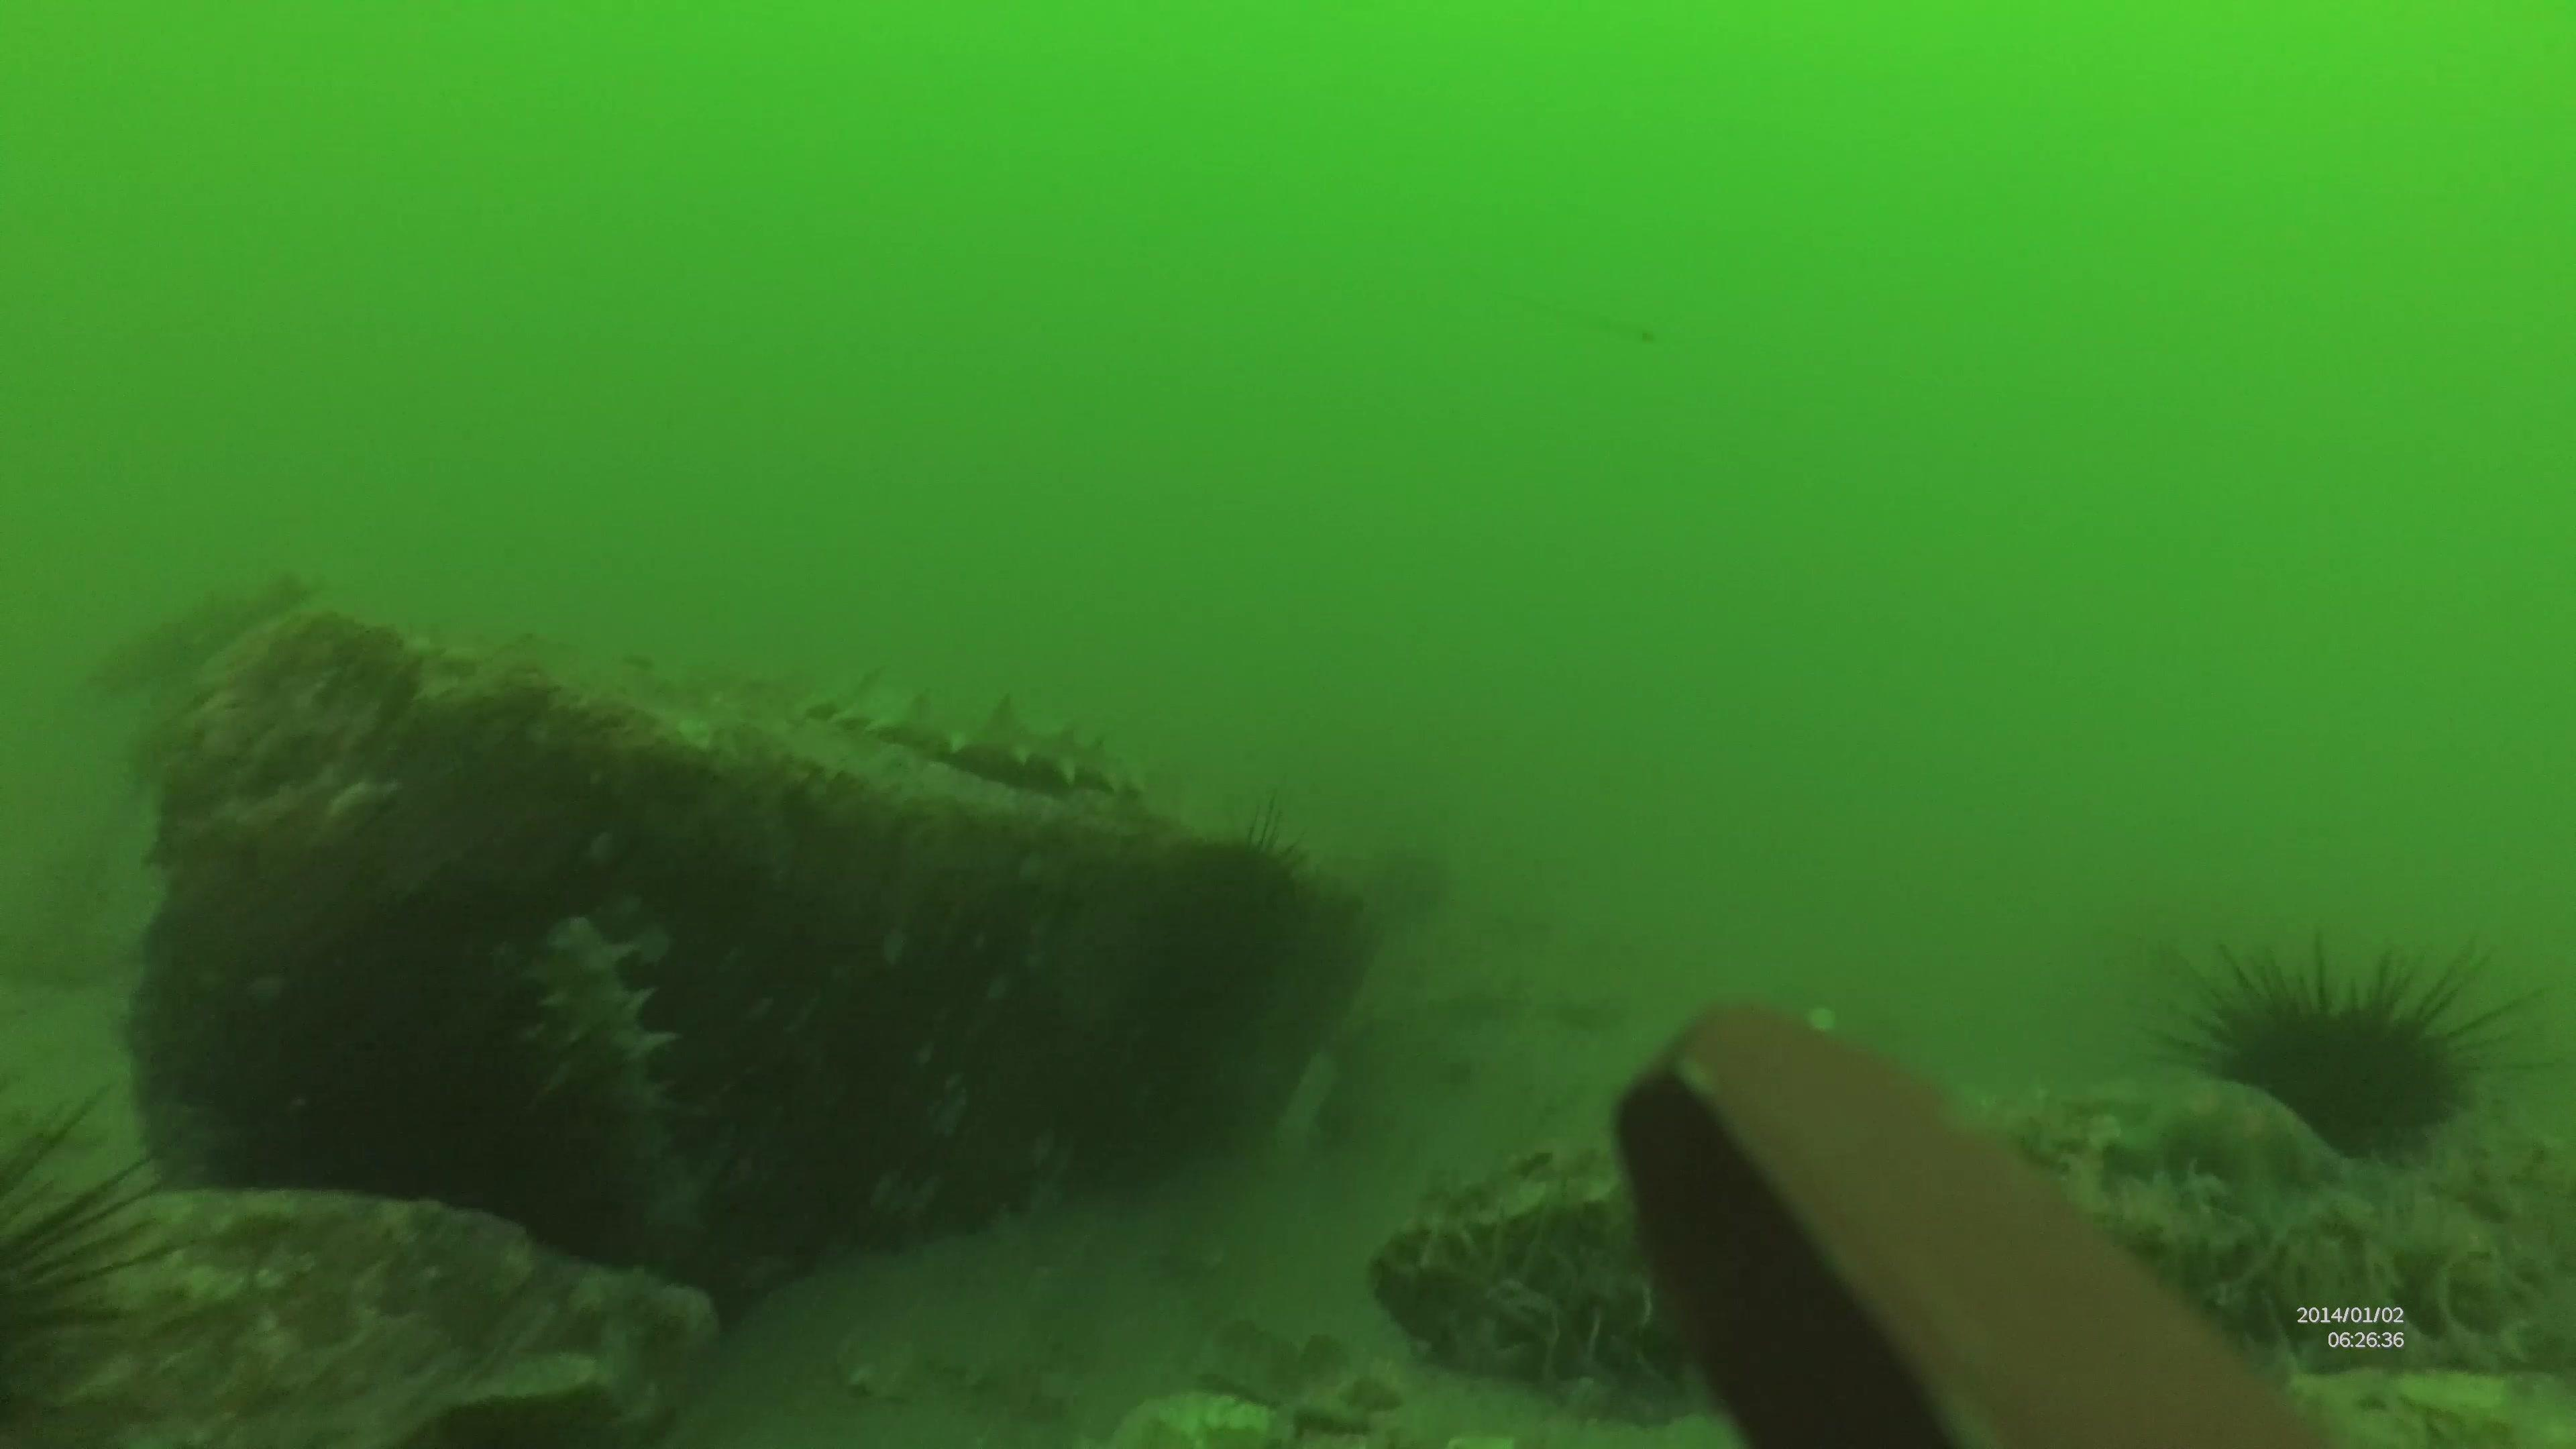echinus: (2166, 925, 2560, 1168), (0, 1081, 177, 1449), (1184, 794, 1320, 1007)
holothurian: (529, 916, 708, 1272), (814, 660, 1157, 801)
